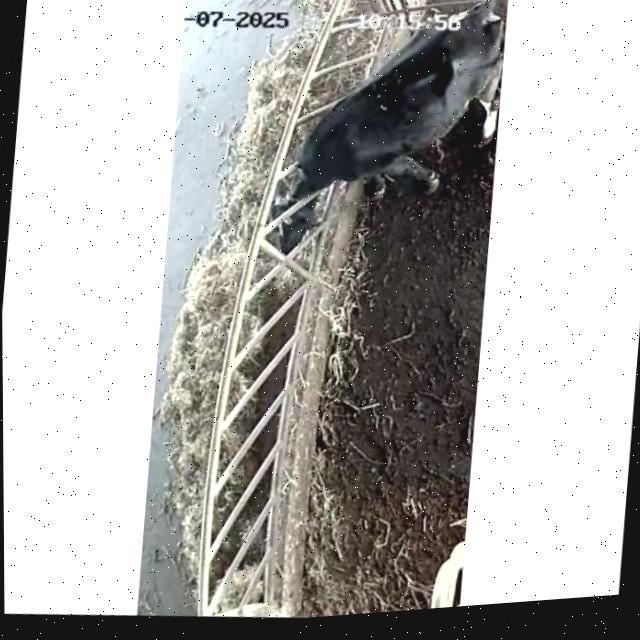eat: (224, 80, 416, 253)
